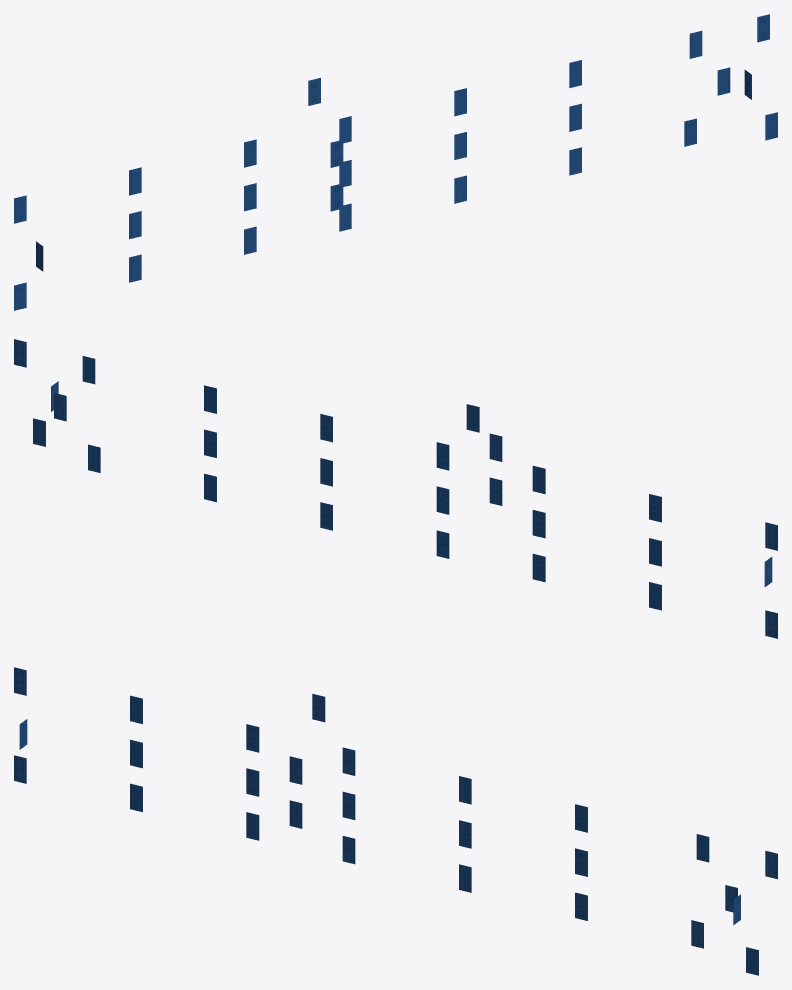
File: GCES_Doors.fbx
The picture shows the model from 3 angles, top to bottom: view 1: azimuth 30°, elevation 25°; view 2: azimuth 150°, elevation 25°; view 3: azimuth 330°, elevation 25°; orthographic projection.
Size of the model in its own units: 715 by 143 by 37.81.
1 material, 1 textured.
